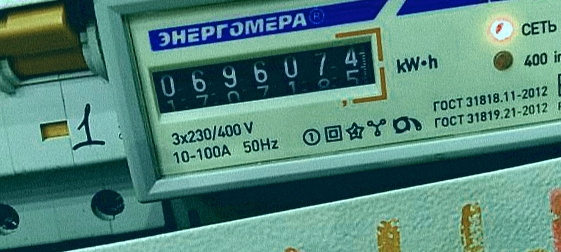0: (155, 71, 177, 99), (280, 52, 300, 80)
4: (341, 43, 360, 69)
5: (344, 67, 361, 87)
6: (187, 65, 210, 94), (249, 58, 269, 84)
7: (309, 49, 330, 77)
9: (217, 62, 239, 89)
screen: (134, 21, 395, 135)
